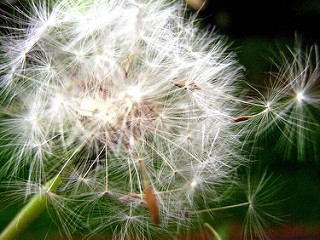dandelion: (1, 1, 317, 239)
